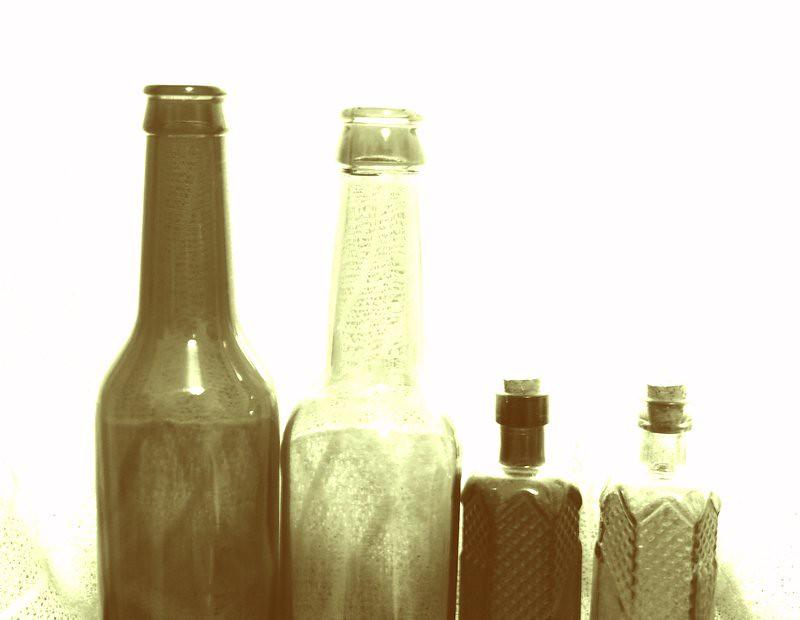bottle: (95, 84, 282, 619), (279, 106, 463, 619), (590, 383, 722, 620), (458, 378, 584, 620)
